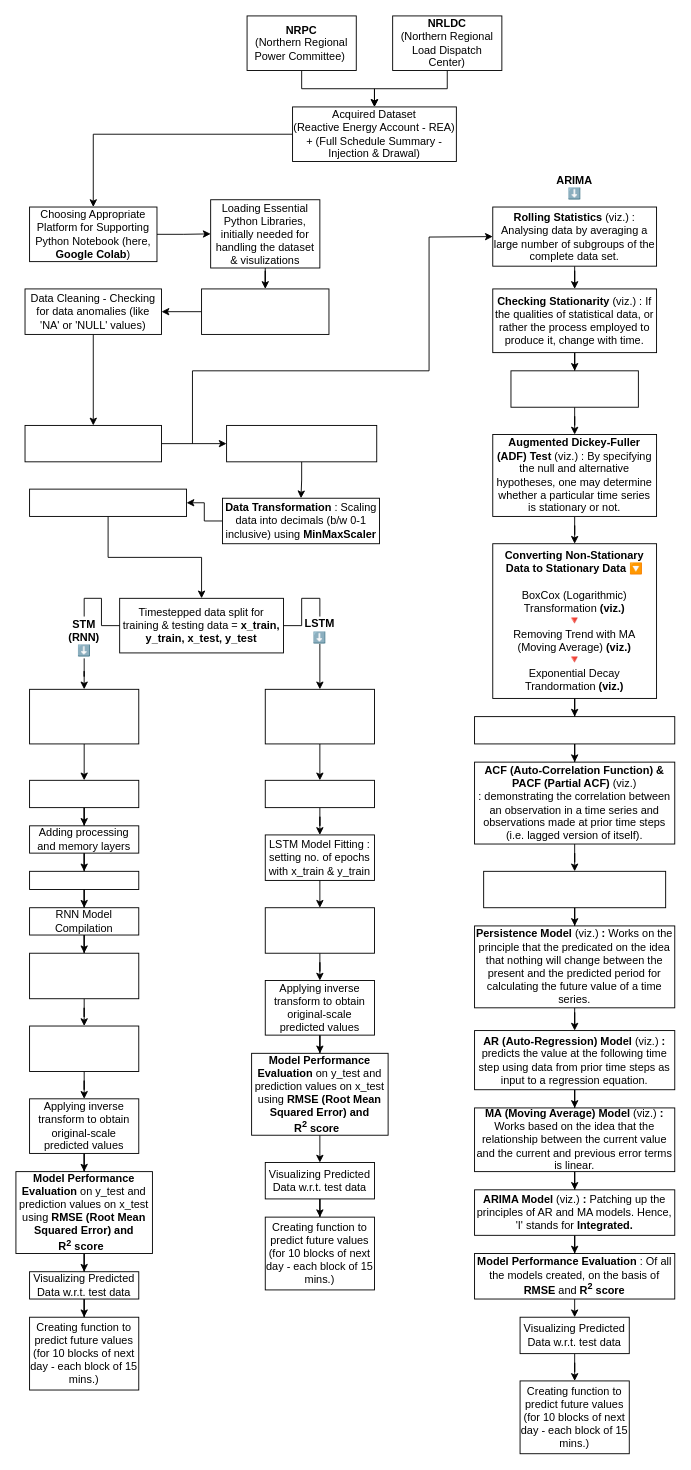
The diagram is 691 pixels wide and 1470 high, and some of its shapes have lost their labels. Here are the shapes that lost their labels. From the top down, the centre of each, then its label:
At (265,311): "Loading dataset by mounting Google Drive in Google Colab".
At (574,388): "Checking dataset halves for Mean & Variance".
At (93,443): "Data Filtering - filtering out unnecessary attributes.".
At (301,443): "Data Split Training : Testing = 0.75 : 0.25".
At (108,502): "Creating Timesteps - 10 rows in a packet".
At (84,716): "Importing KERAS components to create RNN Model".
At (319,716): "Importing KERAS components to create LSTM Model".
At (574,730): "Checking Stationarity (viz.) : ADF Test".
At (84,793): "Initializing RNN Model".
At (319,793): "Model Building & Comilation".
At (84,880): "Adding Output Layer".
At (574,889): "Data Split : Training & Testing data : x_train, y_train, x_test, y_test".
At (319,930): "LSTM Model (Trained) : Value Prediction on x_test".
At (84,975): "RNN Model Fitting : setting no. of epochs with x_train & y_train".
At (84,1048): "RNN Model (Trained) : Value Prediction on x_test".
